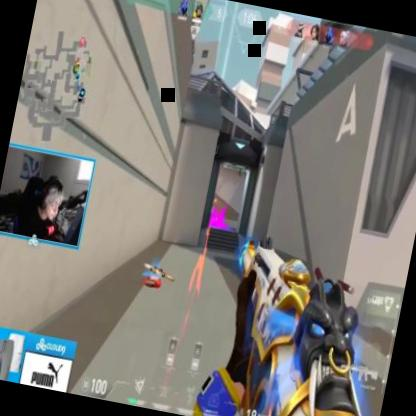enemy: (204, 200, 216, 225)
enemy_head: (211, 201, 214, 206)
